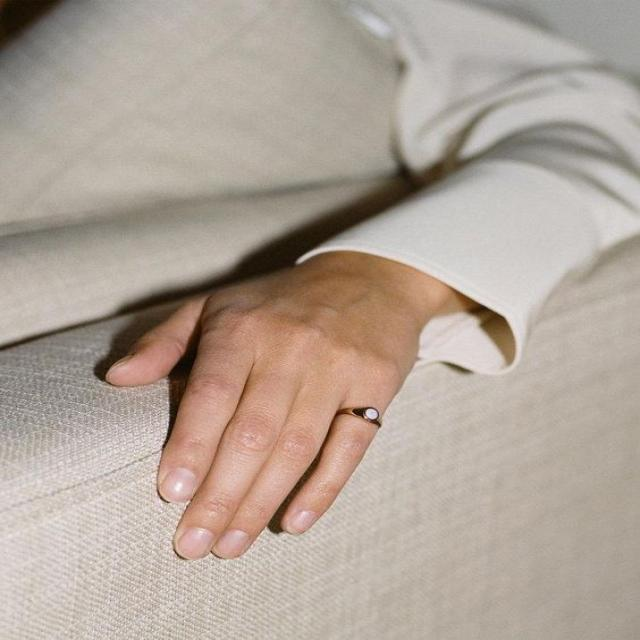Fingernail: (161, 468, 196, 505), (177, 528, 214, 561), (213, 529, 249, 558), (287, 511, 319, 536)
